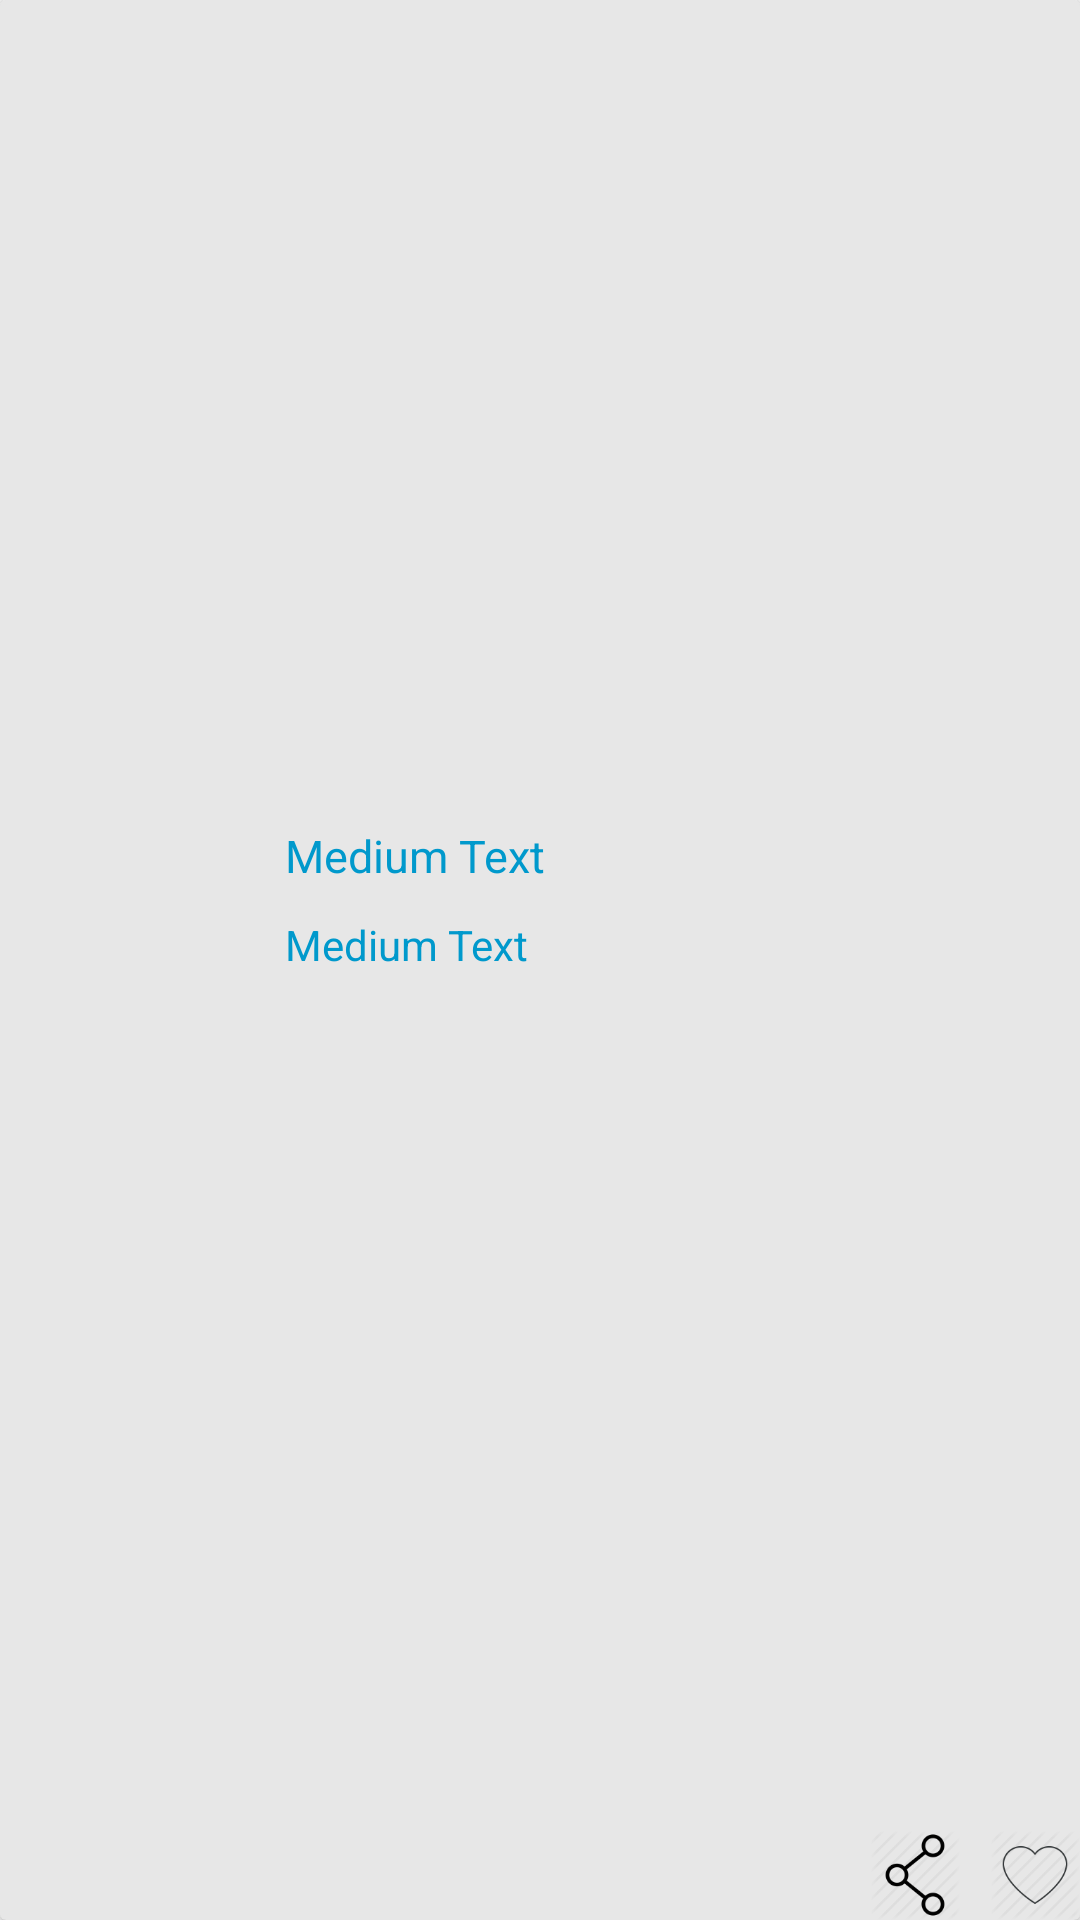

Icon click points for this 1080 × 1920 phone screenshot, format point (x, y):
favorite: point (1035, 1875)
share: point (915, 1875)
